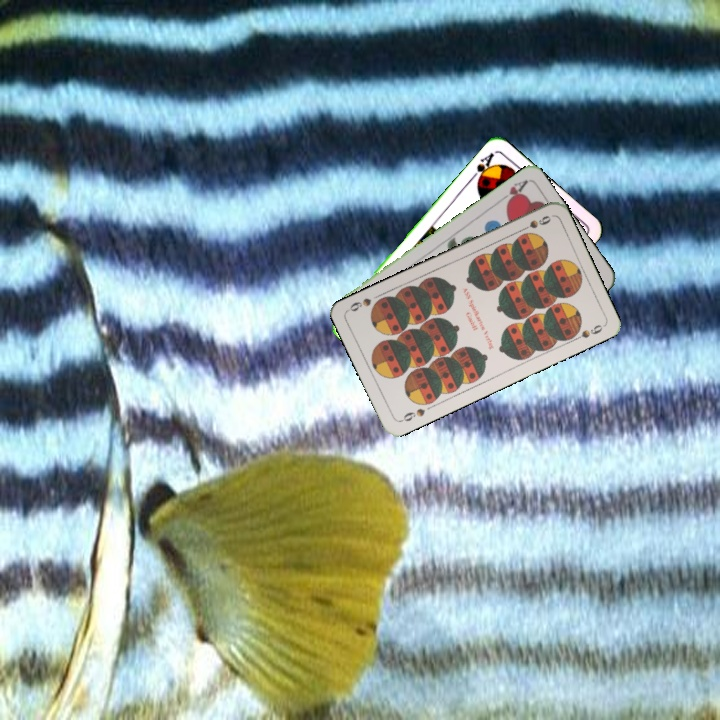HA: (494, 176, 530, 208)
S9: (515, 211, 553, 235), (396, 404, 428, 425)
SA: (466, 148, 498, 187)
